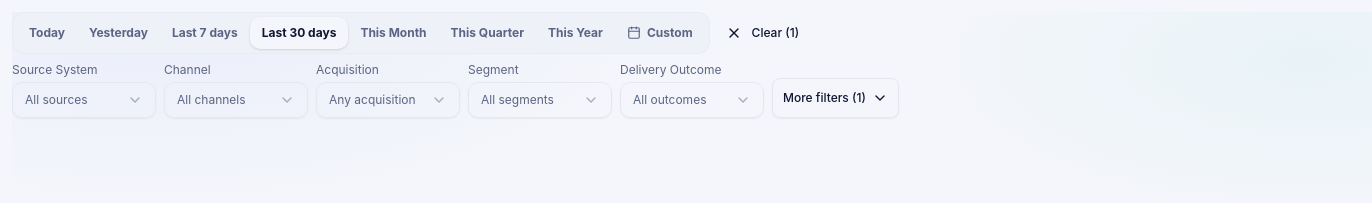
Test: AnalyticsFilterBar › collapses secondary dims behind More filters with an active count
This screenshot has width=1372, height=203.
Check: the element with placeholder "slug / utm_source" is not shown
Click the button "More filters (1)" at (835, 98), box x1=772 y1=78 x2=899 y2=118
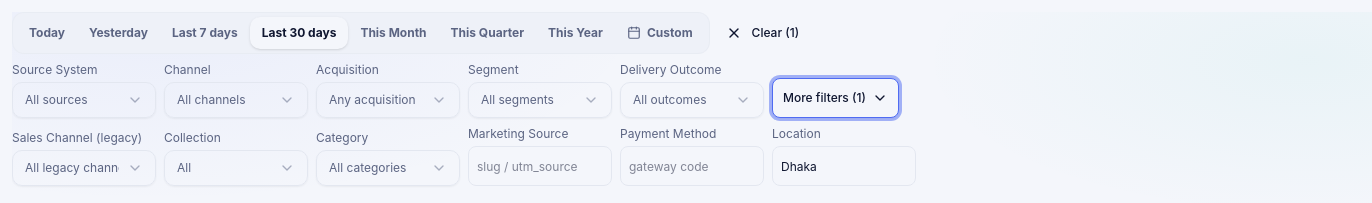
Check: the field with placeholder "slug / utm_source" is shown, box x1=468 y1=146 x2=612 y2=186
